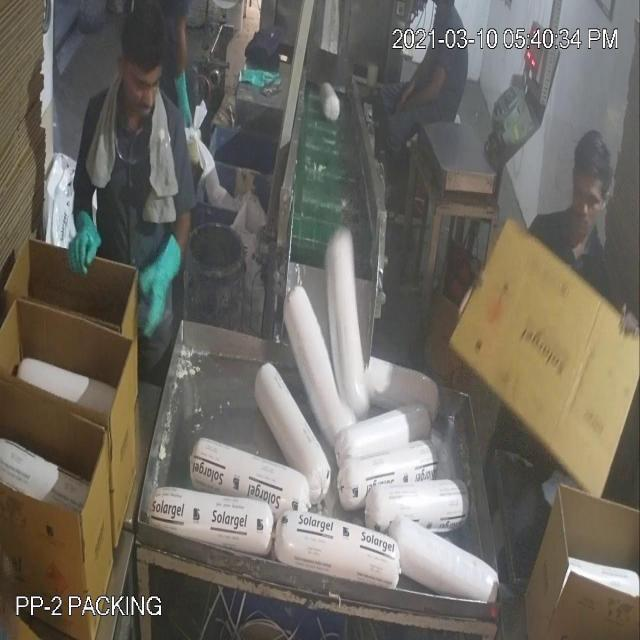Gloves: (38, 68, 430, 282)
